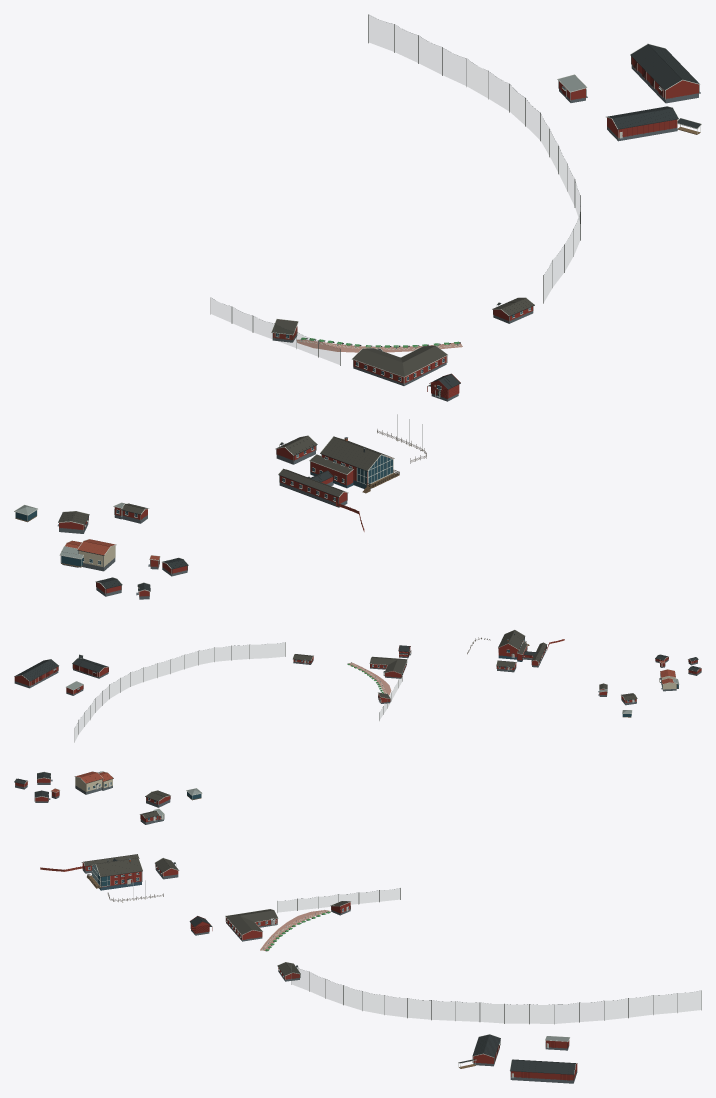
File: facilities-v1.glb
The picture shows the model from 3 angles, top to bottom: view 1: azimuth 30°, elevation 25°; view 2: azimuth 150°, elevation 25°; view 3: azimuth 270°, elevation 25°; orthographic projection. The views are drawn at different scales.
Parts seen in each view (by area): view 1: site-range-east-net-material-01, clubhouse-material-08, site-range-west-near-net-material-01, range-l-building-material-06, maintenance-long-material-06, maintenance-hall-material-06, clubhouse-material-06; view 2: site-range-east-net-material-01, clubhouse-material-08, maintenance-long-material-06, range-l-building-material-06, clubhouse-material-06, maintenance-hall-material-06, site-range-east-net-material-02, site-range-apron-material-03; view 3: site-range-east-net-material-01, site-range-west-near-net-material-01, clubhouse-material-08, maintenance-long-material-06, range-l-building-material-06, maintenance-hall-material-06, site-range-apron-material-03.
Part boxes in pixels (box(x1,y1,x2,y2)): site-range-east-net-material-01: box(369, 15, 579, 300); clubhouse-material-08: box(279, 436, 390, 496); site-range-west-near-net-material-01: box(211, 298, 339, 364); range-l-building-material-06: box(352, 346, 447, 376); maintenance-long-material-06: box(630, 44, 699, 98); maintenance-hall-material-06: box(607, 106, 700, 129); clubhouse-material-06: box(280, 454, 392, 503); site-range-east-net-material-01: box(75, 643, 284, 739); clubhouse-material-08: box(498, 630, 546, 661); maintenance-long-material-06: box(14, 659, 58, 681); range-l-building-material-06: box(369, 657, 407, 673); clubhouse-material-06: box(498, 641, 546, 665); maintenance-hall-material-06: box(72, 654, 108, 672); site-range-east-net-material-02: box(74, 642, 285, 742); site-range-apron-material-03: box(349, 662, 391, 695); site-range-east-net-material-01: box(292, 966, 700, 1023); site-range-west-near-net-material-01: box(278, 888, 399, 911); clubhouse-material-08: box(83, 854, 142, 876); maintenance-long-material-06: box(510, 1059, 575, 1080); range-l-building-material-06: box(225, 909, 277, 934); maintenance-hall-material-06: box(459, 1034, 500, 1063); site-range-apron-material-03: box(260, 910, 330, 951).
Size of the model in its own units: 350 by 24.8 by 314.
